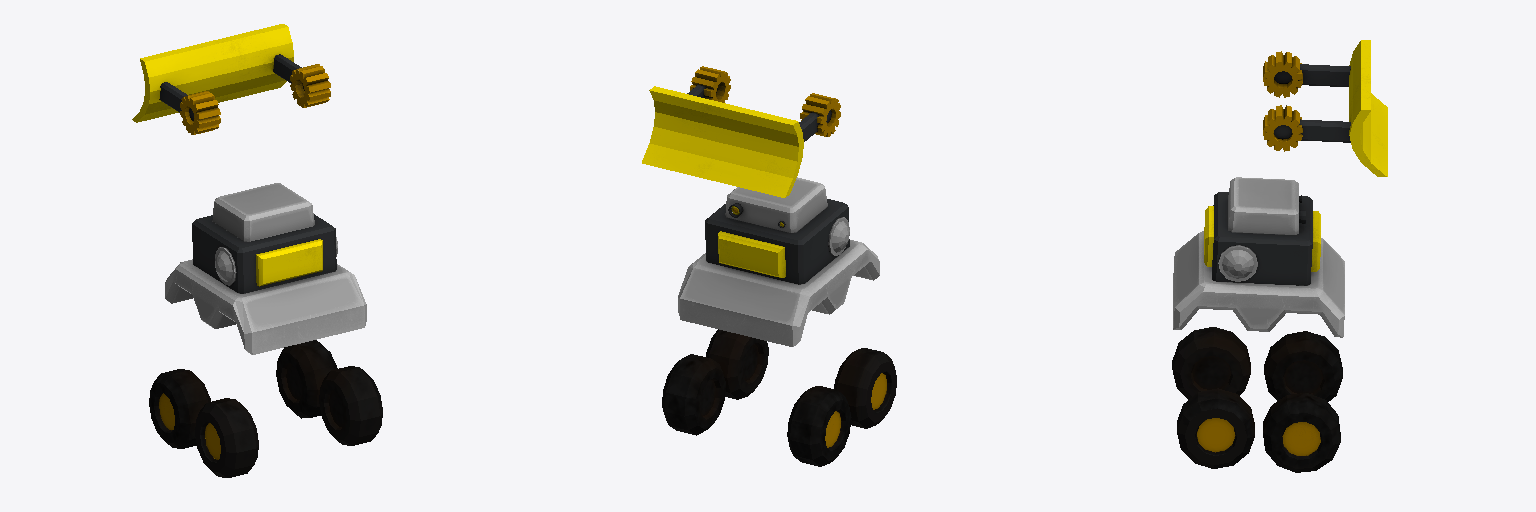
3 renders of one model, left to right at view 1: azimuth 30°, elevation 25°; view 2: azimuth 150°, elevation 25°; view 3: azimuth 270°, elevation 25°, orthographic.
Visible parts, largest first — view 1: constructionRobotBase, constructionRobotBase gear1 connector1 bulldozer, constructionRobotBase wheel3, constructionRobotBase wheel2, constructionRobotBase wheel4, constructionRobotBase wheel1, unmovingCube constructionRobotBase, constructionRobotBase gear1, constructionRobotBase gear1 connector1 bulldozer connector2 gear, unmovingCube constructionRobotBase decoLight1; view 2: constructionRobotBase, constructionRobotBase gear1 connector1 bulldozer, constructionRobotBase wheel4, constructionRobotBase wheel1, constructionRobotBase wheel3, constructionRobotBase wheel2, unmovingCube constructionRobotBase, constructionRobotBase gear1 connector1 bulldozer connector2 gear, constructionRobotBase gear1, unmovingCube constructionRobotBase decoLight1; view 3: constructionRobotBase, constructionRobotBase wheel1, constructionRobotBase wheel2, constructionRobotBase wheel3, constructionRobotBase wheel4, constructionRobotBase gear1 connector1 bulldozer, constructionRobotBase gear1 connector1 bulldozer connector2 gear, constructionRobotBase gear1, constructionRobotBase gear1 connector1, constructionRobotBase gear1 connector1 bulldozer connector2, unmovingCube constructionRobotBase decoLight2, unmovingCube constructionRobotBase.
Boxes of the visible parts, x1,y1,x2,y2 form: constructionRobotBase: [165, 183, 366, 354]; constructionRobotBase gear1 connector1 bulldozer: [132, 24, 293, 122]; constructionRobotBase wheel3: [195, 398, 258, 477]; constructionRobotBase wheel2: [319, 366, 382, 445]; constructionRobotBase wheel4: [149, 369, 210, 448]; constructionRobotBase wheel1: [276, 340, 337, 418]; unmovingCube constructionRobotBase: [256, 239, 322, 286]; constructionRobotBase gear1: [290, 64, 330, 107]; constructionRobotBase gear1 connector1 bulldozer connector2 gear: [180, 91, 220, 134]; unmovingCube constructionRobotBase decoLight1: [215, 247, 236, 285]; constructionRobotBase: [678, 177, 879, 346]; constructionRobotBase gear1 connector1 bulldozer: [642, 86, 803, 197]; constructionRobotBase wheel4: [787, 386, 851, 466]; constructionRobotBase wheel1: [662, 354, 725, 435]; constructionRobotBase wheel3: [834, 348, 896, 428]; constructionRobotBase wheel2: [706, 329, 768, 399]; unmovingCube constructionRobotBase: [718, 231, 785, 277]; constructionRobotBase gear1 connector1 bulldozer connector2 gear: [800, 93, 840, 136]; constructionRobotBase gear1: [690, 66, 730, 102]; unmovingCube constructionRobotBase decoLight1: [828, 217, 849, 255]; constructionRobotBase: [1173, 177, 1344, 337]; constructionRobotBase wheel1: [1263, 393, 1340, 472]; constructionRobotBase wheel2: [1177, 388, 1254, 468]; constructionRobotBase wheel3: [1172, 327, 1250, 399]; constructionRobotBase wheel4: [1264, 331, 1342, 401]; constructionRobotBase gear1 connector1 bulldozer: [1349, 40, 1387, 176]; constructionRobotBase gear1 connector1 bulldozer connector2 gear: [1263, 51, 1302, 97]; constructionRobotBase gear1: [1263, 105, 1302, 151]; constructionRobotBase gear1 connector1: [1274, 119, 1350, 142]; constructionRobotBase gear1 connector1 bulldozer connector2: [1274, 64, 1350, 86]; unmovingCube constructionRobotBase decoLight2: [1218, 245, 1257, 281]; unmovingCube constructionRobotBase: [1204, 206, 1320, 271].
Bounding box in the file's own units: 2.47 × 5.39 × 2.89.
Materials: 1 (1 with a texture image).